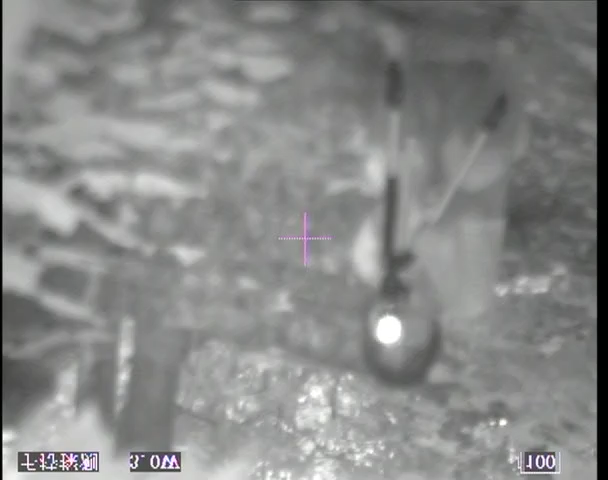my: (374, 314, 403, 345)
